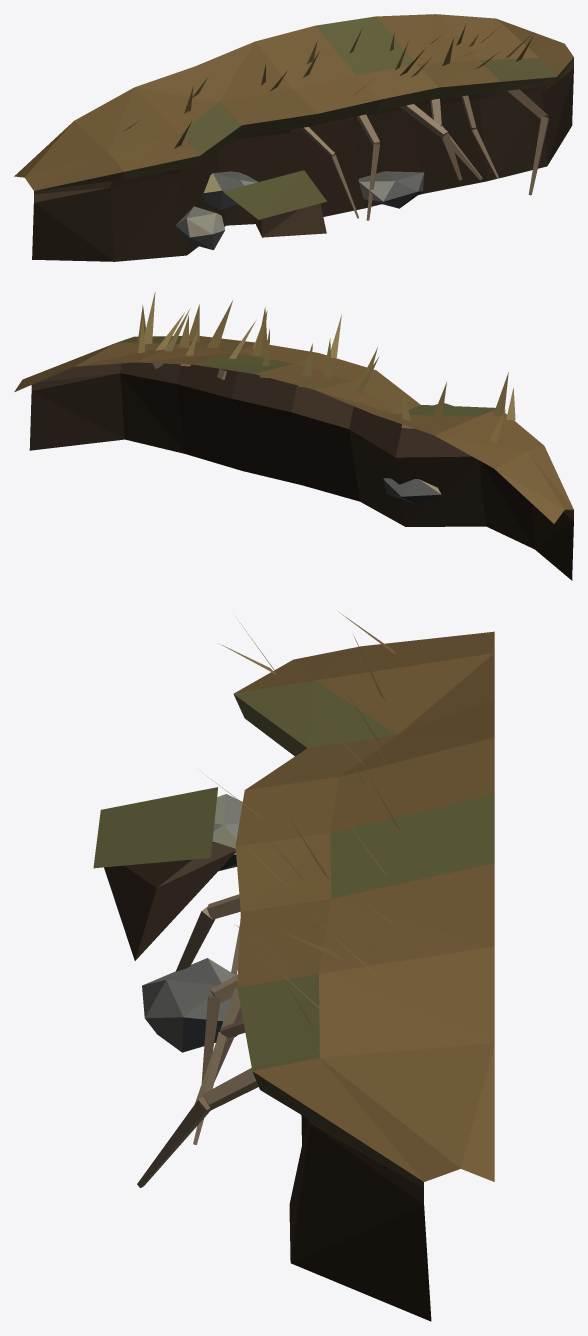
Rendered from bank-edge-2.glb.
3 views of the same model, one above another, from view 1: azimuth 30°, elevation 25°; view 2: azimuth 150°, elevation 25°; view 3: azimuth 270°, elevation 25° (orthographic). The views are drawn at different scales.
Parts seen in each view (by area): view 1: bank-edge-earth, bank-edge-stones, bank-edge-roots; view 2: bank-edge-earth, bank-edge-stones; view 3: bank-edge-earth, bank-edge-roots, bank-edge-stones.
Part boxes in pixels (left/top/right/bottom): bank-edge-earth: left=14, top=14, right=573, bottom=261; bank-edge-stones: left=175, top=171, right=424, bottom=250; bank-edge-roots: left=300, top=89, right=548, bottom=220; bank-edge-earth: left=14, top=291, right=573, bottom=580; bank-edge-stones: left=383, top=478, right=441, bottom=504; bank-edge-earth: left=93, top=612, right=494, bottom=1321; bank-edge-roots: left=137, top=894, right=258, bottom=1187; bank-edge-stones: left=142, top=794, right=242, bottom=1052.
Size of the model in its own units: 3.4 by 1 by 1.09.
